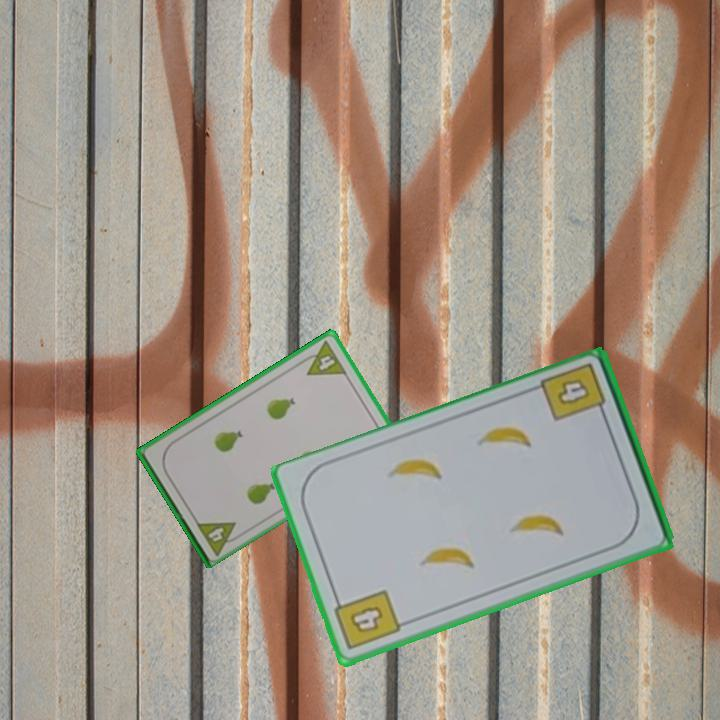4b: (330, 586, 404, 653), (537, 359, 610, 425)
4p: (296, 337, 349, 378), (192, 517, 245, 558)
